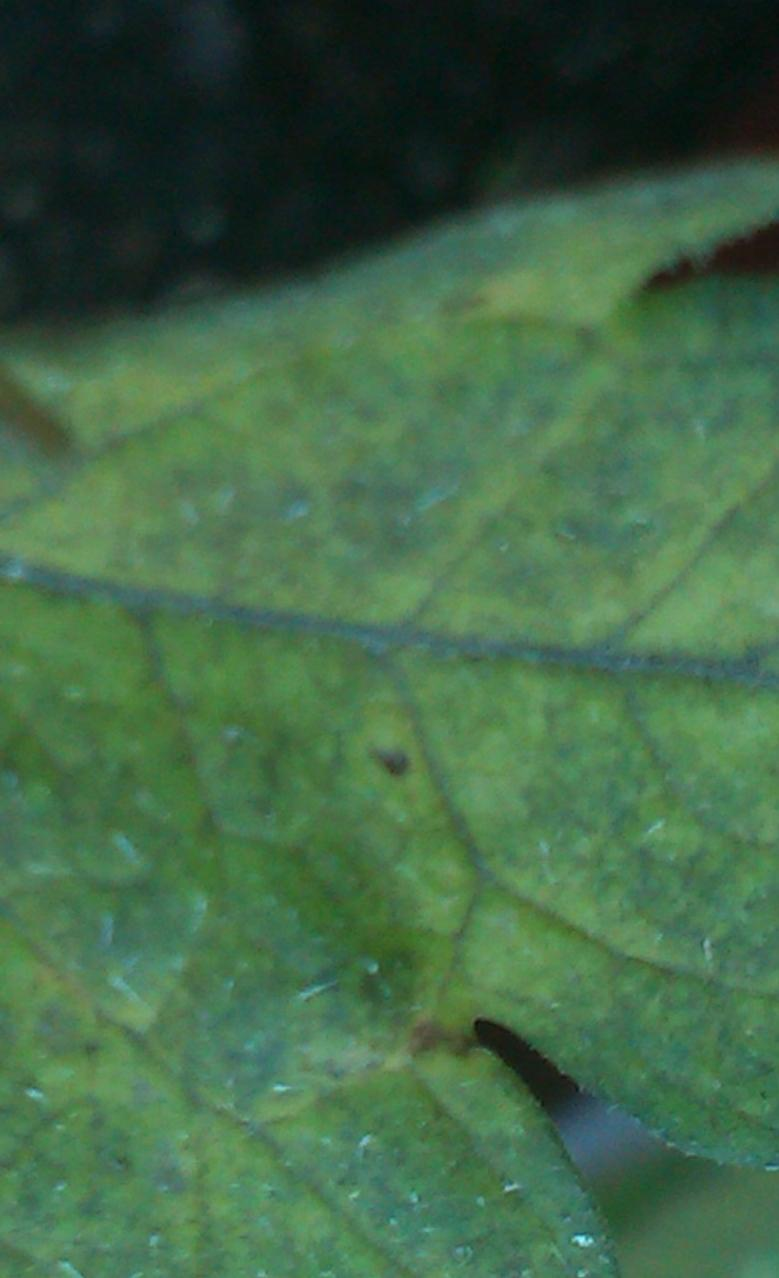Tomato mold leaf: (0, 83, 779, 1278)
